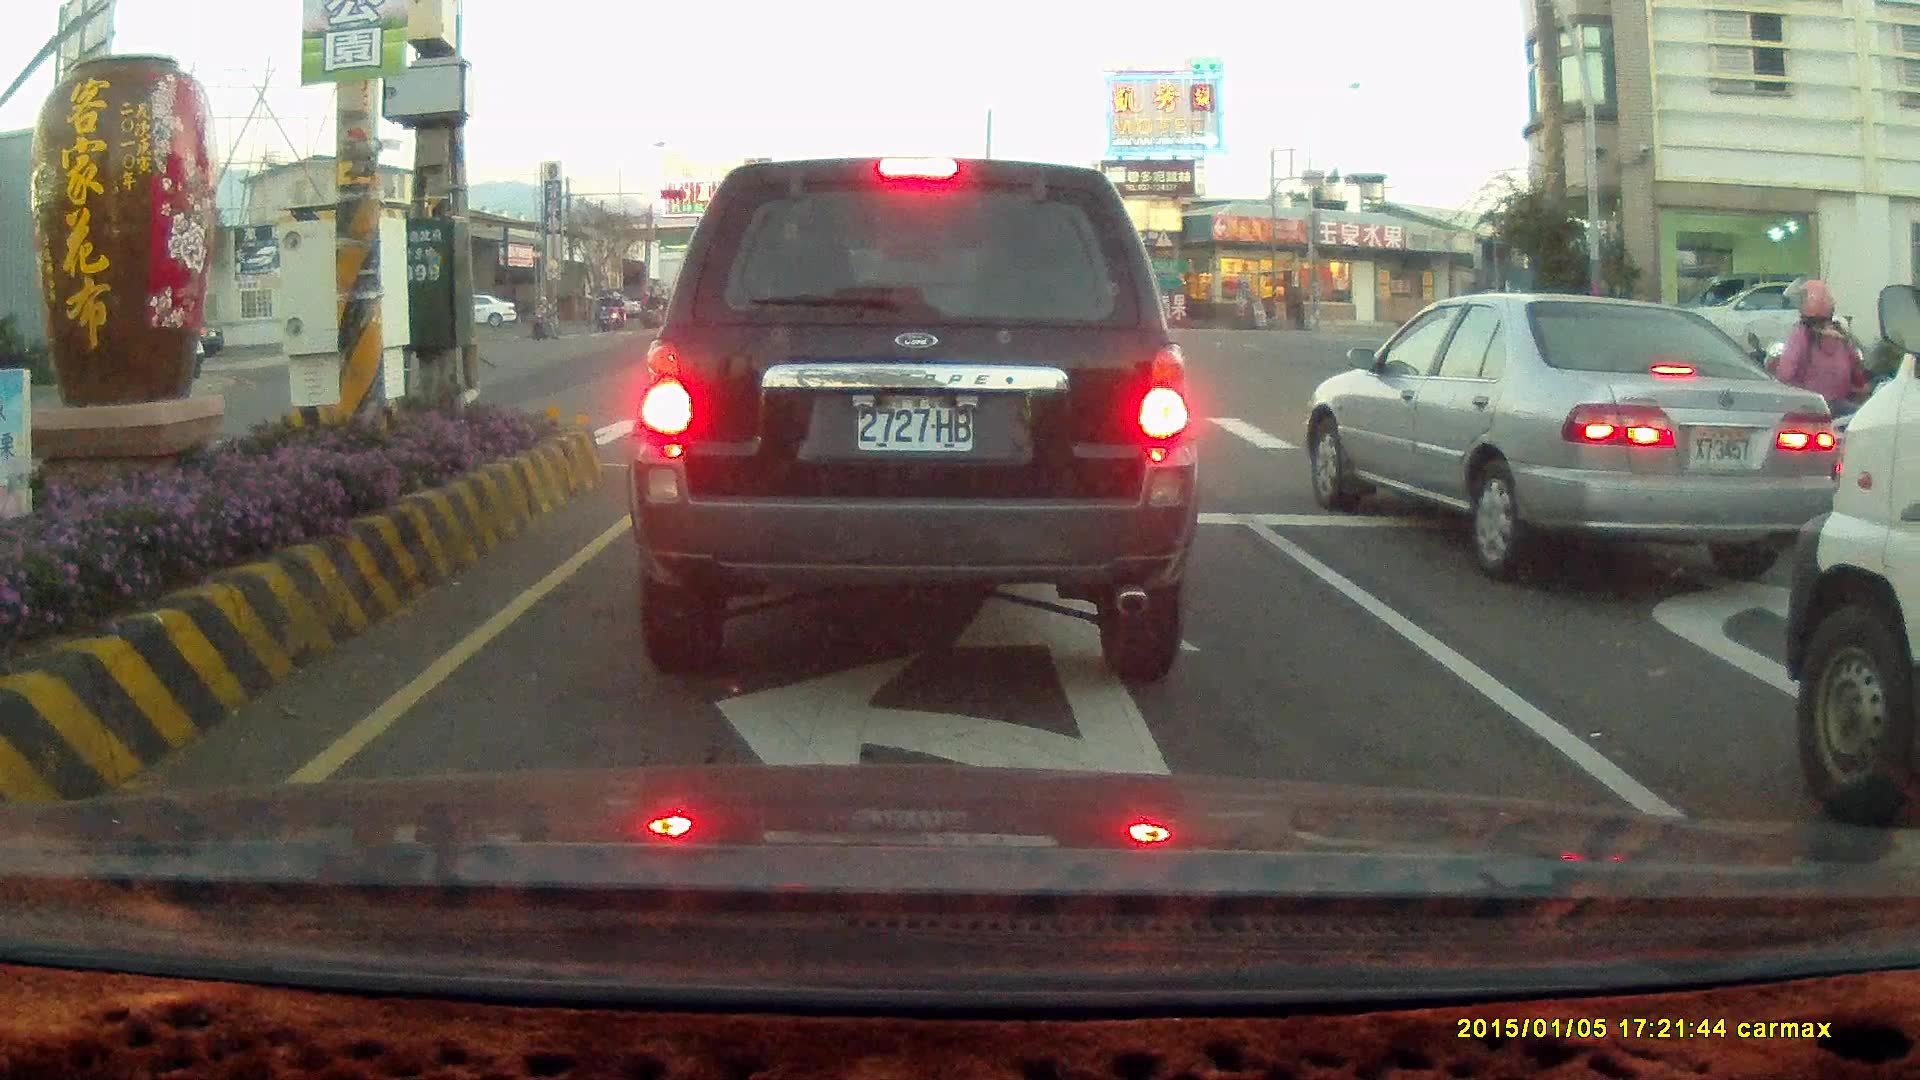rider: (1701, 273, 1918, 536), (527, 290, 562, 337), (593, 290, 614, 331), (611, 292, 632, 328), (643, 289, 664, 326)
vehicle: (625, 155, 1200, 684), (1301, 289, 1833, 582), (1315, 293, 1847, 579), (1781, 277, 1920, 828), (1654, 275, 1851, 369), (1668, 275, 1823, 373)
